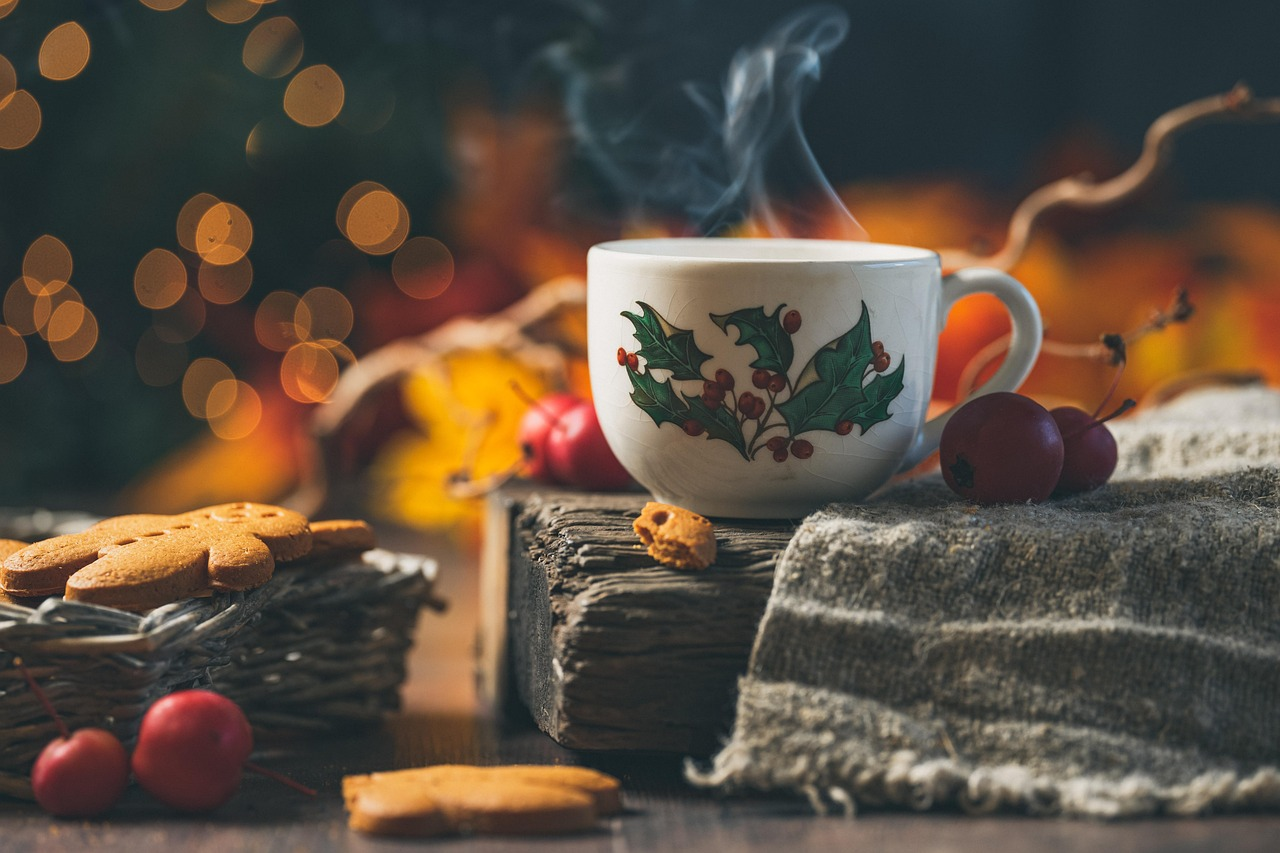mug: (572, 226, 1054, 548)
